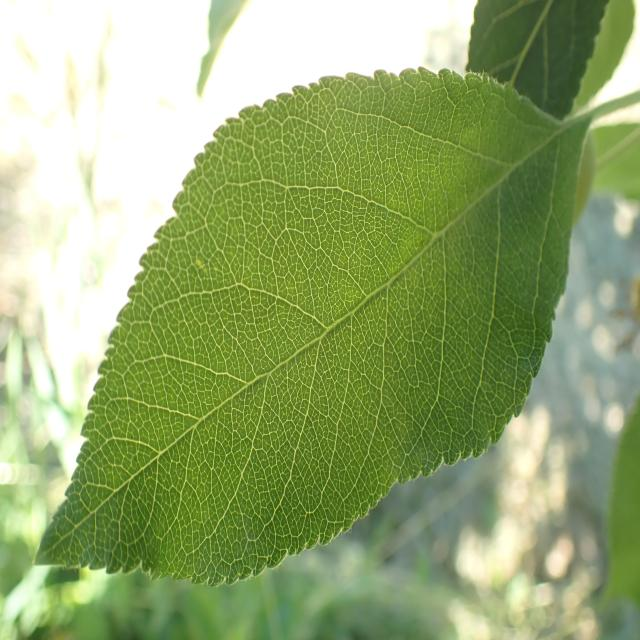healthy: (33, 65, 592, 588), (464, 0, 610, 120)
